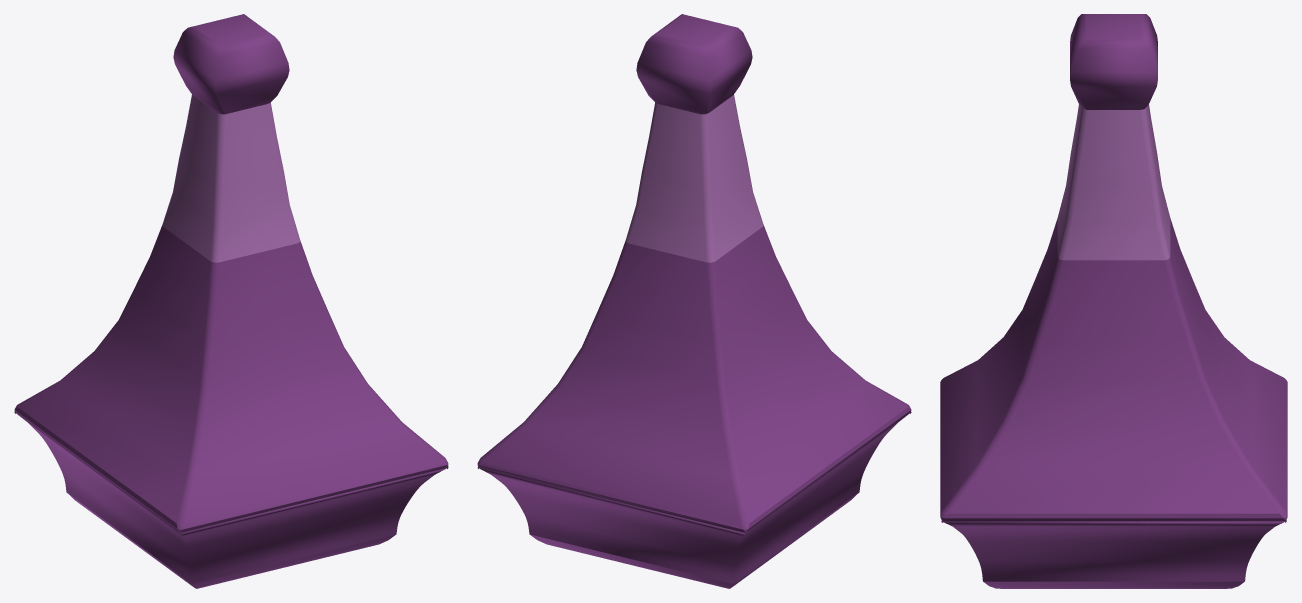
The model's file is PerfumeBottle.FBX.
The picture shows the model from 3 angles, left to right: view 1: azimuth 30°, elevation 25°; view 2: azimuth 150°, elevation 25°; view 3: azimuth 270°, elevation 25°; orthographic projection. The views are drawn at different scales.
Parts seen in each view (by area): view 1: Box001; view 2: Box001; view 3: Box001.
Part boxes in pixels (x1=…): Box001: x1=14, y1=14, x2=448, y2=588; Box001: x1=477, y1=14, x2=911, y2=588; Box001: x1=940, y1=14, x2=1287, y2=588.
Bounding box in the file's own units: 23.32 × 41.22 × 24.88.
Materials: 2 (2 with a texture image).
